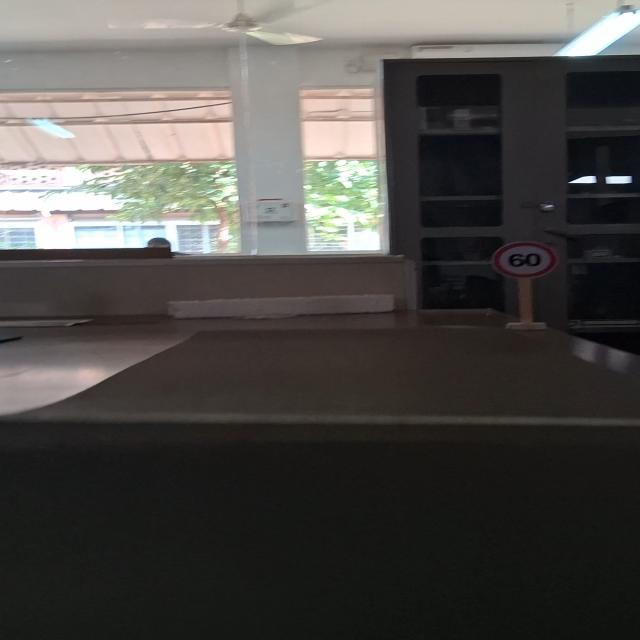Speed60: (488, 240, 561, 280)
